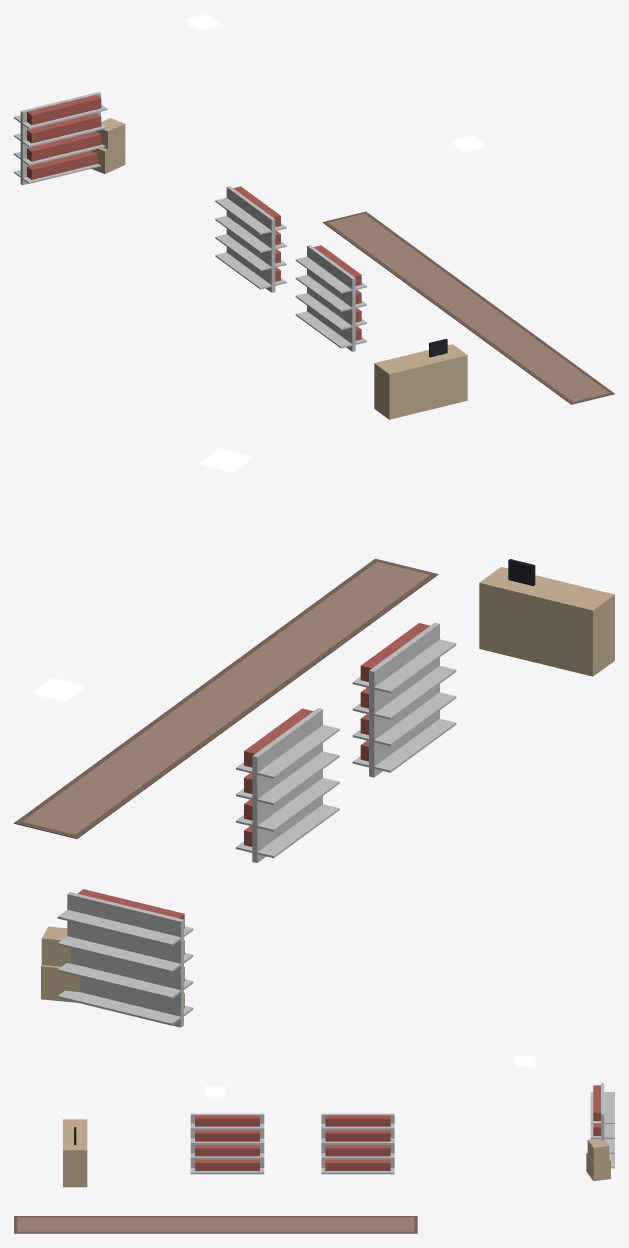
File: fine-s0.glb
3 renders of one model, top to bottom at view 1: azimuth 30°, elevation 25°; view 2: azimuth 150°, elevation 25°; view 3: azimuth 270°, elevation 25°, orthographic. The views are drawn at different scales.
Visible parts, largest first — view 1: soft-s0, shelving.000, shop-counter.000, shelf.000, shelf.001, cardboard-box.000; view 2: soft-s0, shelving.000, shop-counter.000, shelf.001, shelf.000, cardboard-box.000; view 3: soft-s0, shelf.001, shelf.000, shop-counter.000, shelving.000, cardboard-box.000.
Boxes of the visible parts, x1=… form: soft-s0: x1=322, y1=211, x2=614, y2=404; shelving.000: x1=14, y1=92, x2=107, y2=185; shop-counter.000: x1=374, y1=338, x2=467, y2=419; shelf.000: x1=215, y1=186, x2=286, y2=292; shelf.001: x1=295, y1=245, x2=366, y2=351; cardboard-box.000: x1=91, y1=118, x2=125, y2=173; soft-s0: x1=14, y1=558, x2=438, y2=838; shelving.000: x1=57, y1=889, x2=193, y2=1027; shop-counter.000: x1=479, y1=559, x2=614, y2=676; shelf.001: x1=352, y1=622, x2=456, y2=777; shelf.000: x1=236, y1=708, x2=339, y2=862; cardboard-box.000: x1=41, y1=926, x2=80, y2=1002; soft-s0: x1=14, y1=1216, x2=417, y2=1233; shelf.001: x1=190, y1=1113, x2=264, y2=1174; shelf.000: x1=321, y1=1113, x2=394, y2=1174; shop-counter.000: x1=63, y1=1119, x2=87, y2=1187; shelving.000: x1=590, y1=1083, x2=614, y2=1168; cardboard-box.000: x1=586, y1=1139, x2=610, y2=1181.
Size of the model in its own units: 5.29 by 3.64 by 14.73.
